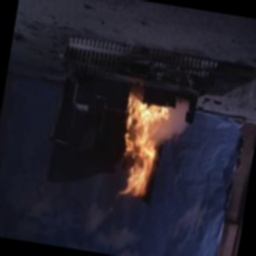fire: (107, 90, 181, 212)
